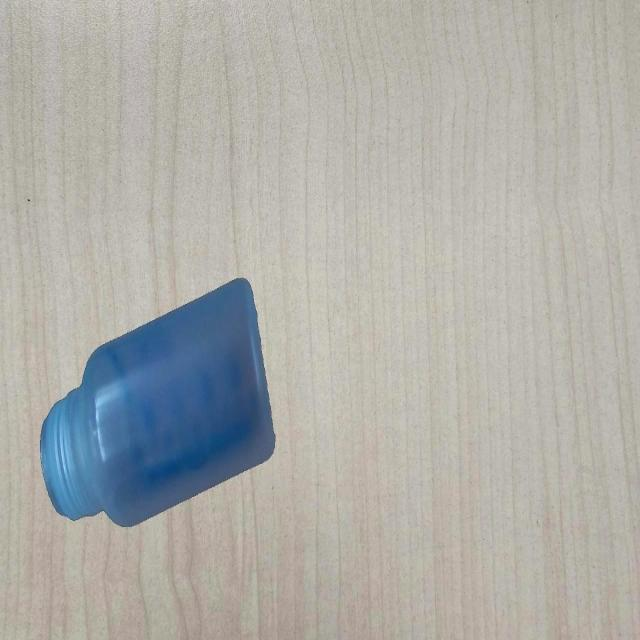bottle: (38, 276, 276, 534)
